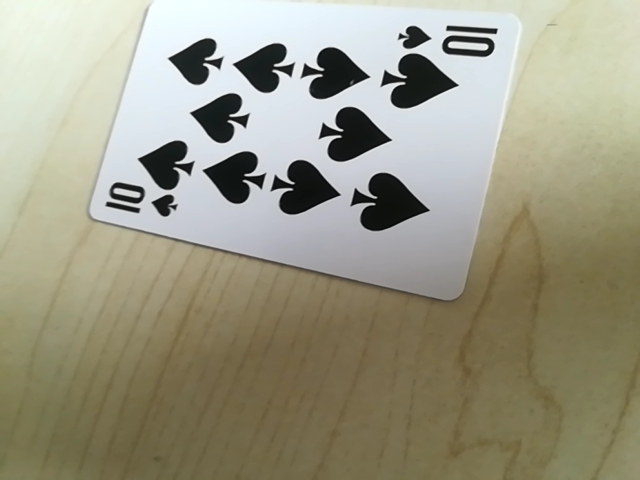ht 10: (392, 19, 504, 58), (101, 185, 184, 224)
